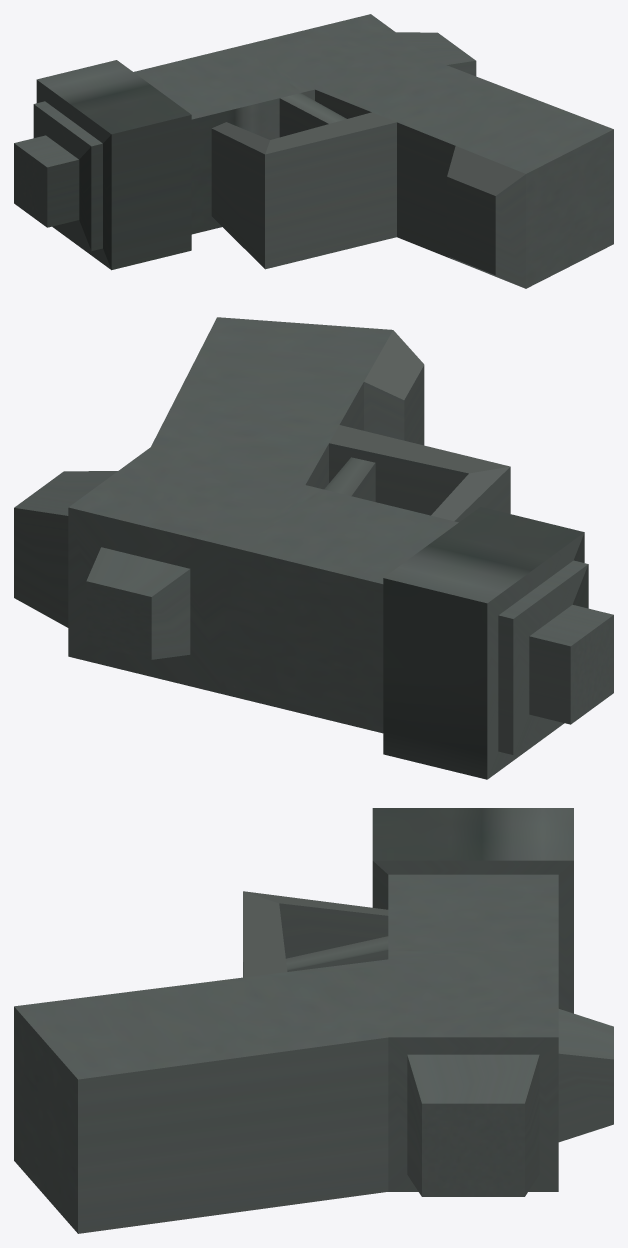
Rendered from pistolarampino.fbx.
3 renders of one model, top to bottom at view 1: azimuth 30°, elevation 25°; view 2: azimuth 150°, elevation 25°; view 3: azimuth 270°, elevation 25°, orthographic. The views are drawn at different scales.
Visible parts, largest first — view 1: Cube; view 2: Cube; view 3: Cube.
Boxes of the visible parts, x1,y1,x2,y2 form: Cube: (14, 14, 613, 288); Cube: (14, 317, 613, 779); Cube: (14, 808, 613, 1233).
Bounding box in the file's own units: 795 × 237 × 705.
Materials: 1 (1 with a texture image).
